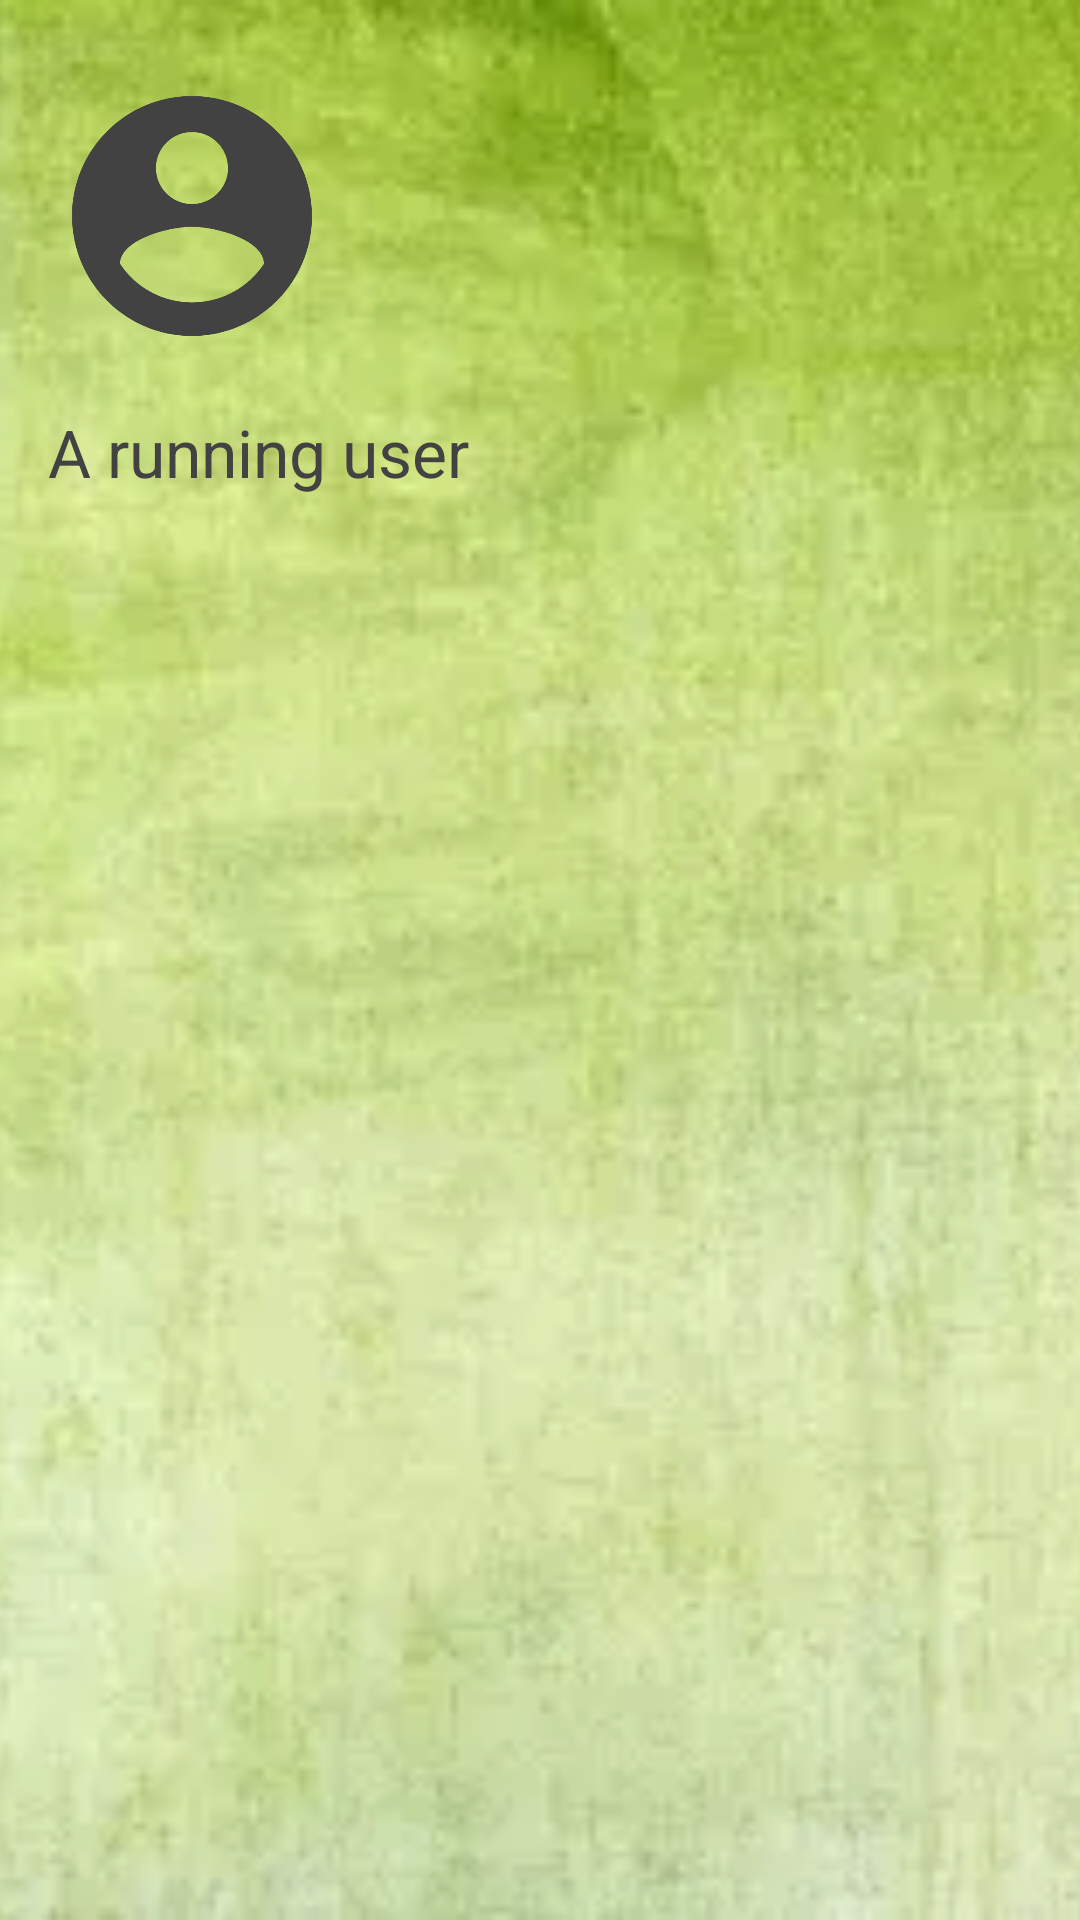

Icons on this 1080 × 1920 Android screen, each with the point to tap as [x,y]:
account template: [192,216]
